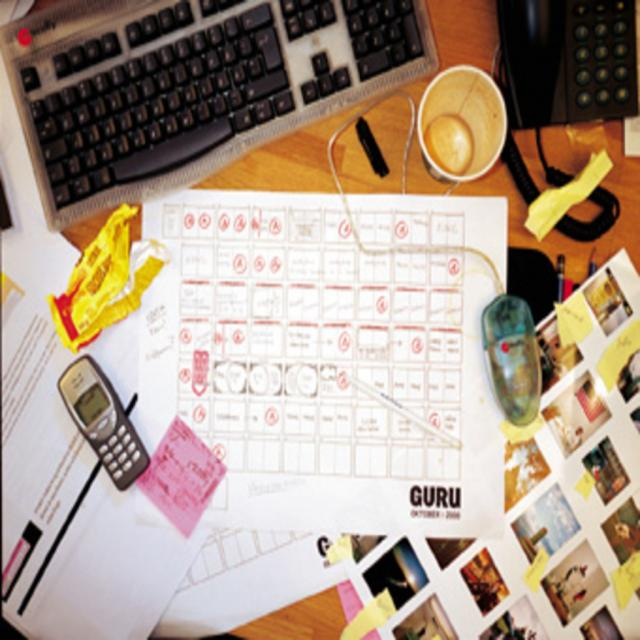desk: (0, 0, 638, 638)
keyboard: (5, 0, 441, 243)
